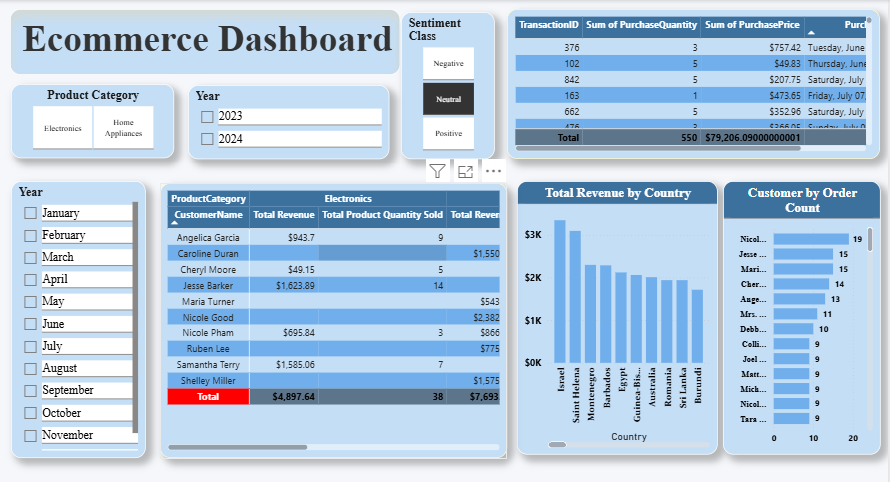

The dashboard page shown, as its layout file describes it:
{"tool":"powerbi","page":{"name":"Customer & Product Analytics","canvas":[1280,720],"ordinal":2},"visuals":[{"type":"textbox","title":"Ecommerce Dashboard","box":[14.6,13.3,562.2,95.5],"z":3000},{"type":"slicer","title":"Product Category","fields":{"Values":["customer_purchase_db product.ProductCategory"]},"box":[15.9,120.7,234.7,107.4],"z":4000},{"type":"slicer","title":"Sentiment Class","fields":{"Values":["review_data.SentimentClass"]},"box":[576.8,17.2,135.2,212.2],"z":5000},{"type":"slicer","title":"Year","fields":{"Values":["customer_purchase_db transactions.PurchaseDate.Variation.Date Hierarchy.Month"]},"box":[15.9,261.2,193.6,399.1],"z":6000},{"type":"slicer","title":"Year","fields":{"Values":["transactions.PurchaseDate.Variation.Date Hierarchy.Year"]},"box":[270.5,122,290.4,107.4],"z":8000},{"type":"clusteredColumnChart","fields":{"Category":["customers.Country"],"Y":["All Measures.Total Revenue"]},"box":[743.9,261.2,289.1,393.8],"z":10000},{"type":"clusteredBarChart","title":"Customer by Order Count","fields":{"Category":["customers.CustomerName"],"Y":["All Measures.Product_quantity_sold"]},"box":[1040.9,261.2,226.7,393.8],"z":11000},{"type":"pivotTable","fields":{"Columns":["product.ProductCategory"],"Rows":["customers.CustomerName"],"Values":["All Measures.Total Revenue","All Measures.Product_quantity_sold"]},"box":[230.7,263.9,499.9,396.5],"z":12000},{"type":"tableEx","fields":{"Values":["transactions.TransactionID","Sum(transactions.PurchaseQuantity)","Sum(transactions.PurchasePrice)","transactions.PurchaseDate"]},"box":[730.6,13.3,537,216.1],"z":13000}]}

Visuals, with their boxes on the page's 1280x720 design canvas (x1, y1, x2, y2). These are canvas units, not pixel positions in the 890x482 screenshot, which may show the page scaled, cropped or inside an application window:
"Ecommerce Dashboard" textbox: x1=15, y1=13, x2=577, y2=109
"Product Category" slicer: x1=16, y1=121, x2=251, y2=228
"Sentiment Class" slicer: x1=577, y1=17, x2=712, y2=229
"Year" slicer: x1=16, y1=261, x2=210, y2=660
"Year" slicer: x1=270, y1=122, x2=561, y2=229
clusteredColumnChart - customers.Country x All Measures.Total Revenue: x1=744, y1=261, x2=1033, y2=655
"Customer by Order Count" clusteredBarChart: x1=1041, y1=261, x2=1268, y2=655
pivotTable - product.ProductCategory x customers.CustomerName: x1=231, y1=264, x2=731, y2=660
tableEx - transactions.TransactionID x Sum(transactions.PurchaseQuantity): x1=731, y1=13, x2=1268, y2=229
